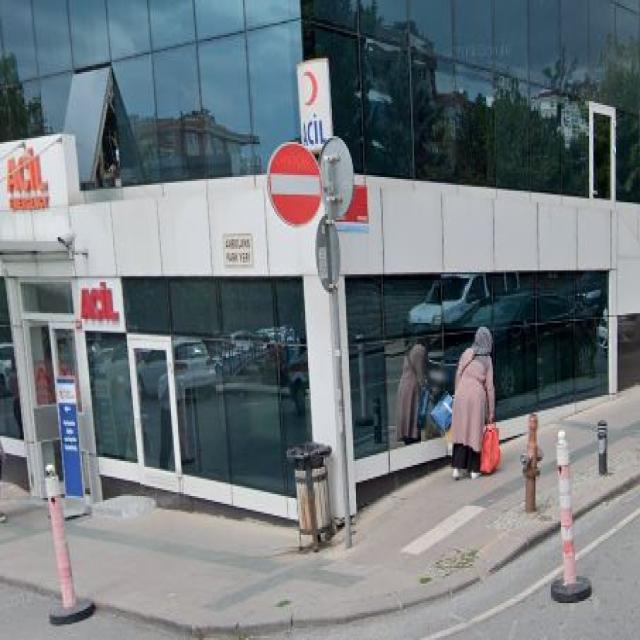girisyok: (268, 142, 320, 228)
